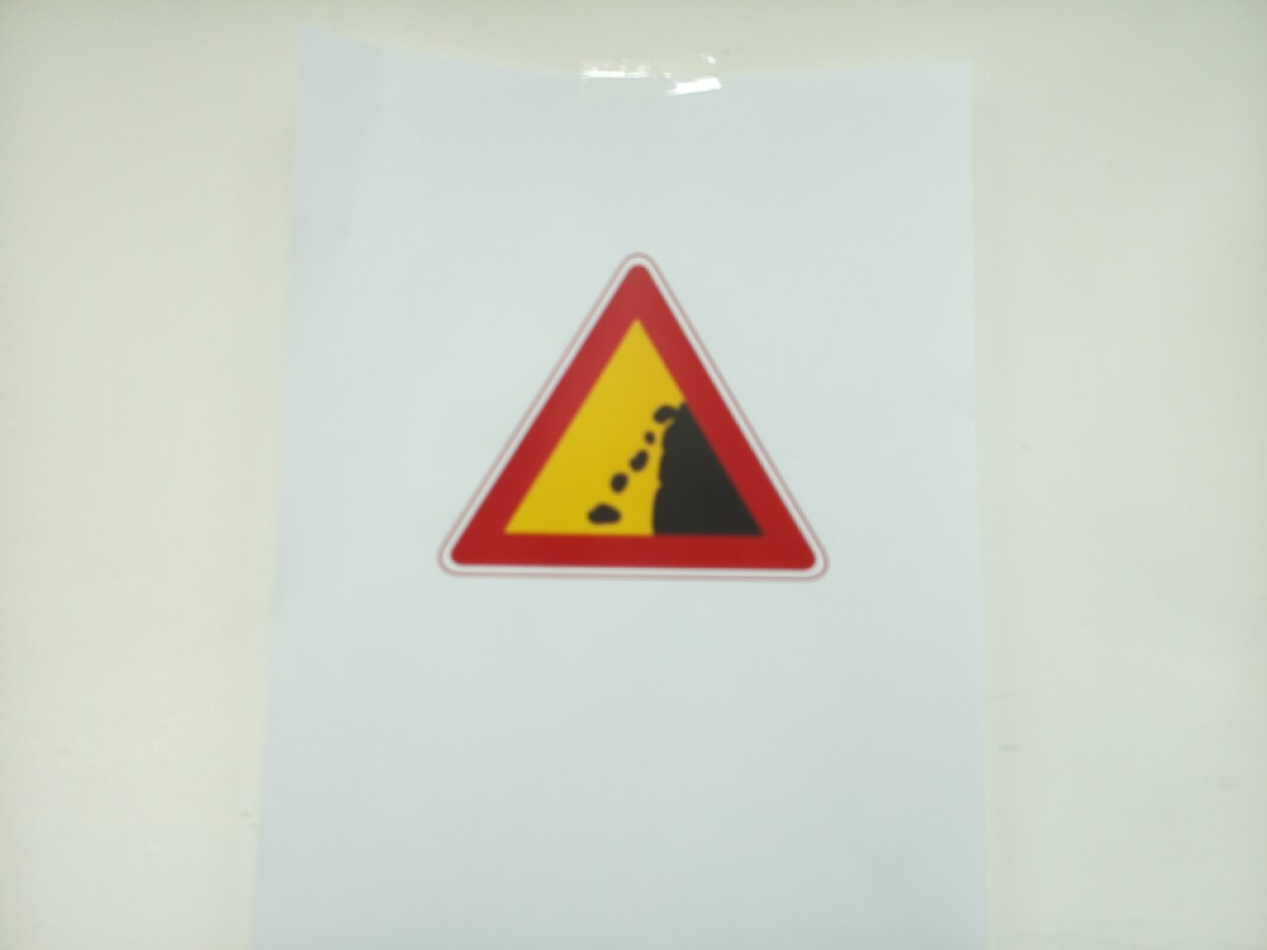falling_rocks: (440, 255, 827, 581)
